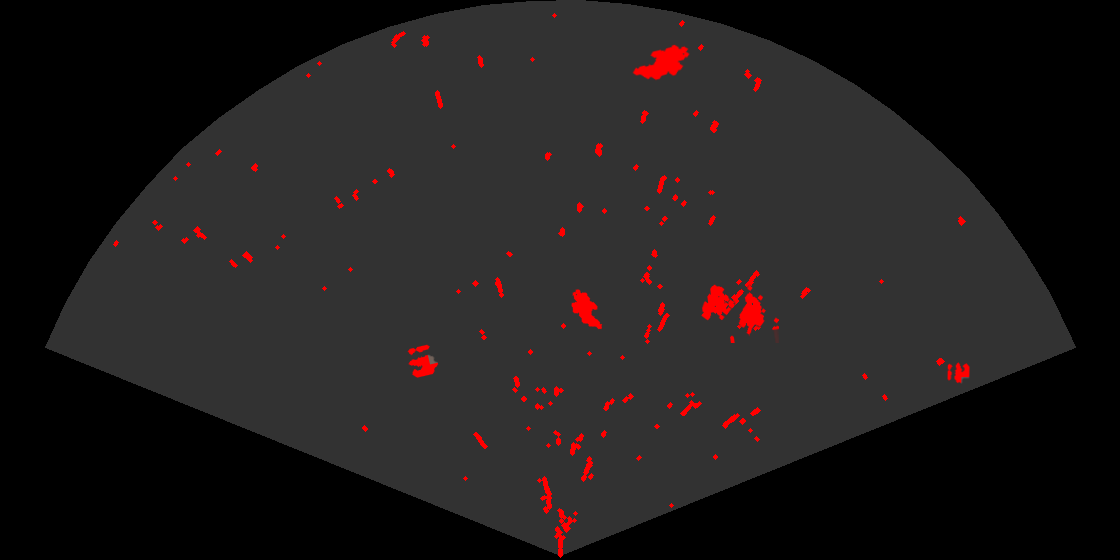AUV: (631, 43, 691, 82), (570, 288, 604, 331)
ball: (406, 343, 440, 379), (946, 361, 971, 385)
cage: (700, 283, 779, 343)
